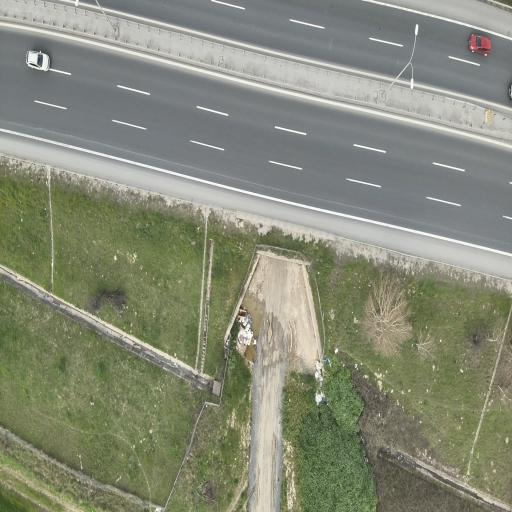car: (469, 35, 491, 55), (27, 51, 49, 71), (509, 84, 511, 100)
